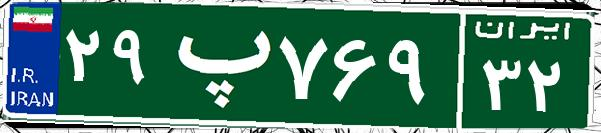2: (57, 26, 110, 107), (525, 38, 570, 115)
3: (475, 38, 525, 113)
6: (330, 28, 385, 110)
7: (273, 28, 330, 110)
9: (385, 28, 445, 110), (110, 28, 158, 105)
پ: (158, 15, 273, 115)
